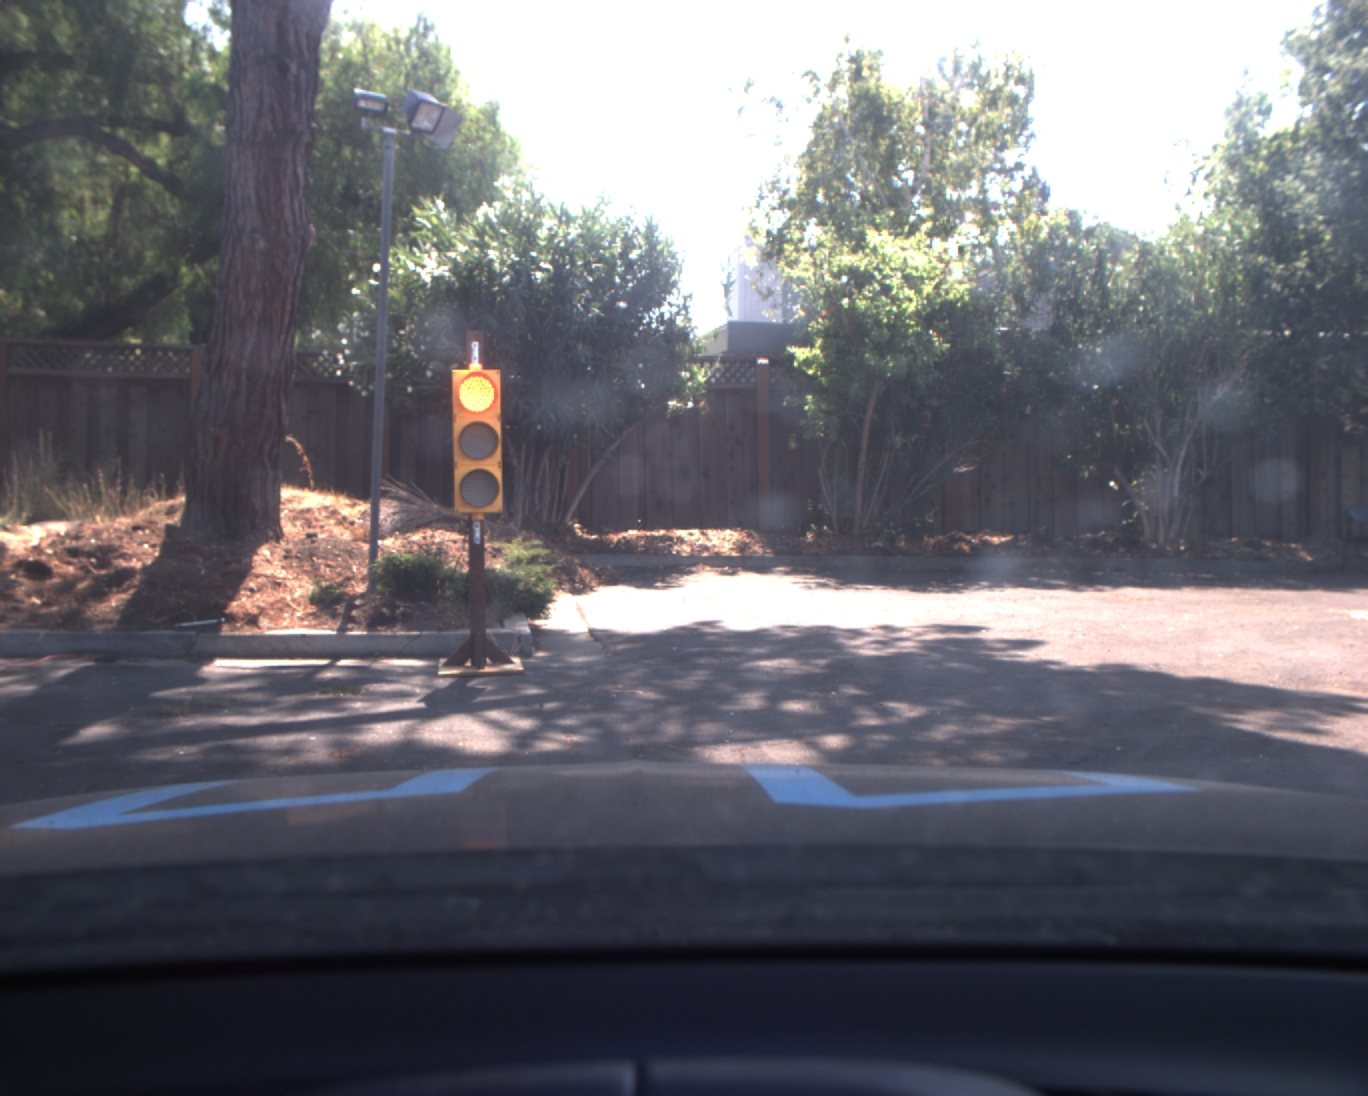red: (452, 370, 508, 517)
